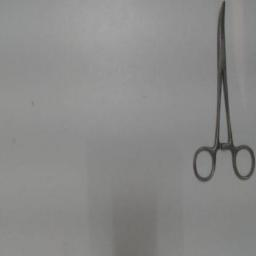Crile Artery Forceps: (190, 1, 254, 185)
